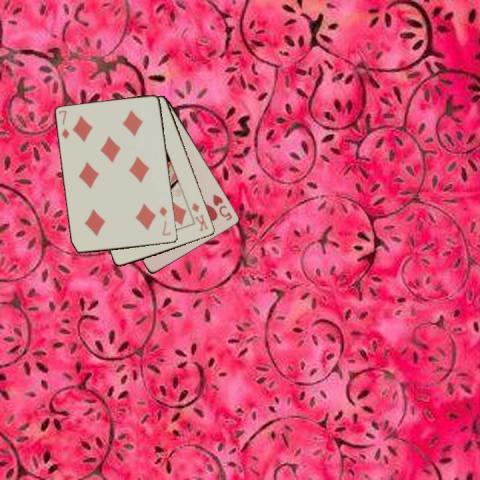5h: (210, 191, 234, 222)
7d: (56, 107, 71, 141), (157, 204, 172, 237)
Kd: (189, 200, 210, 233)
